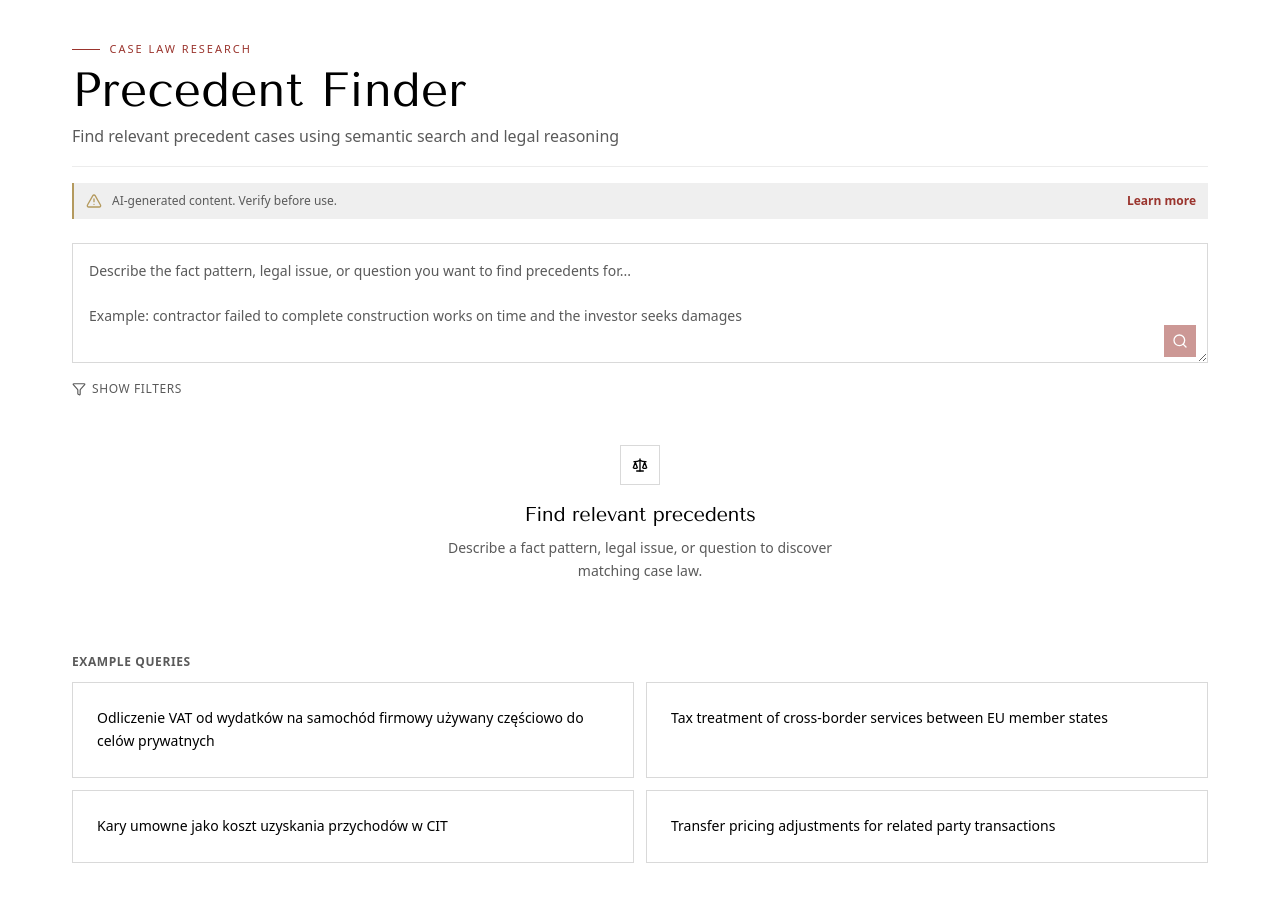
Test: precedents page — cohort block › renders no block when the cohort is empty
The width and height of the screenshot is (1280, 900).
Replace the text in the text box with "a juvenile drug appeal with three co-defendants". click: [640, 303]
box: [72,243,1208,363]
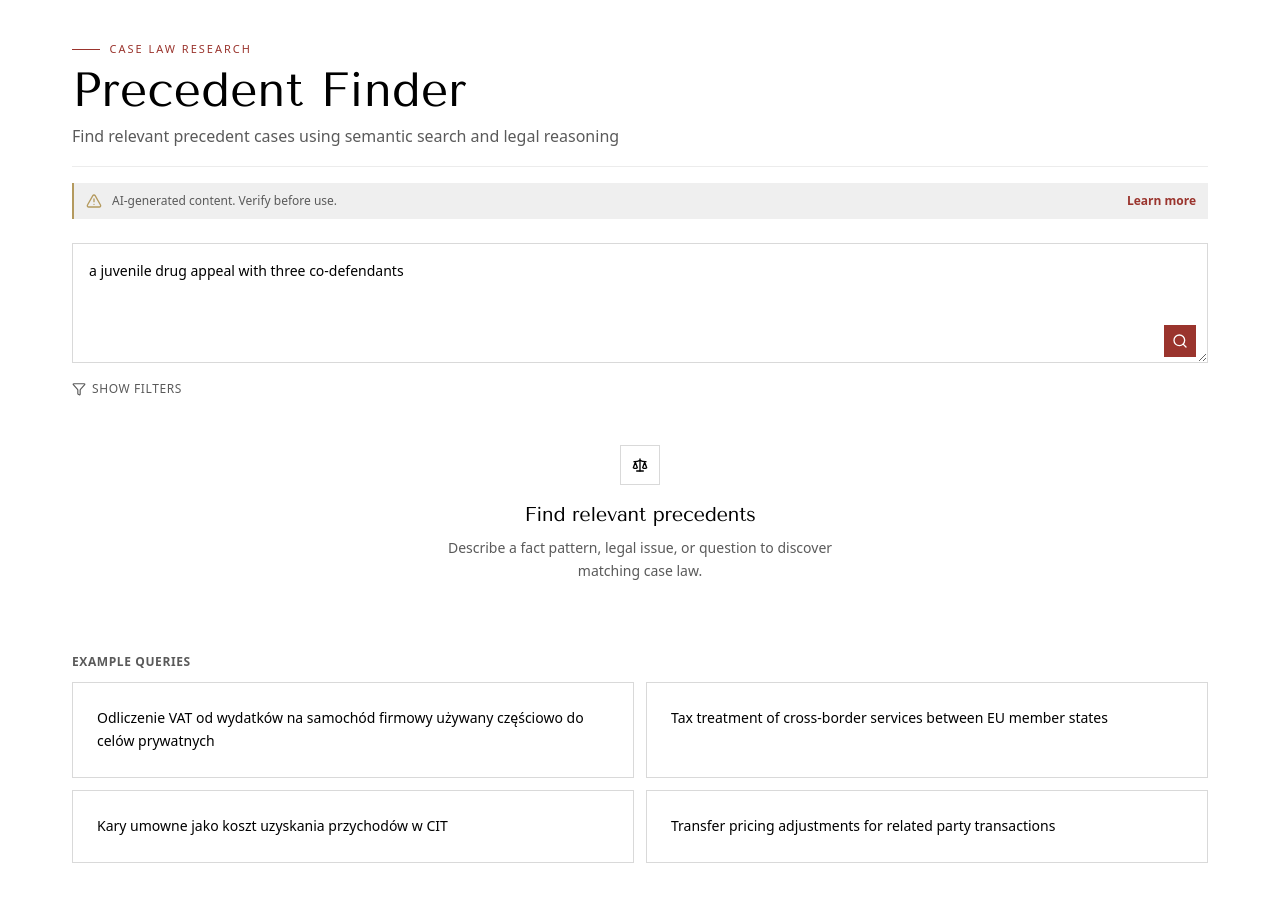
Click the button named "search for precedents". click: [1180, 341]
box: [1164,325,1196,357]
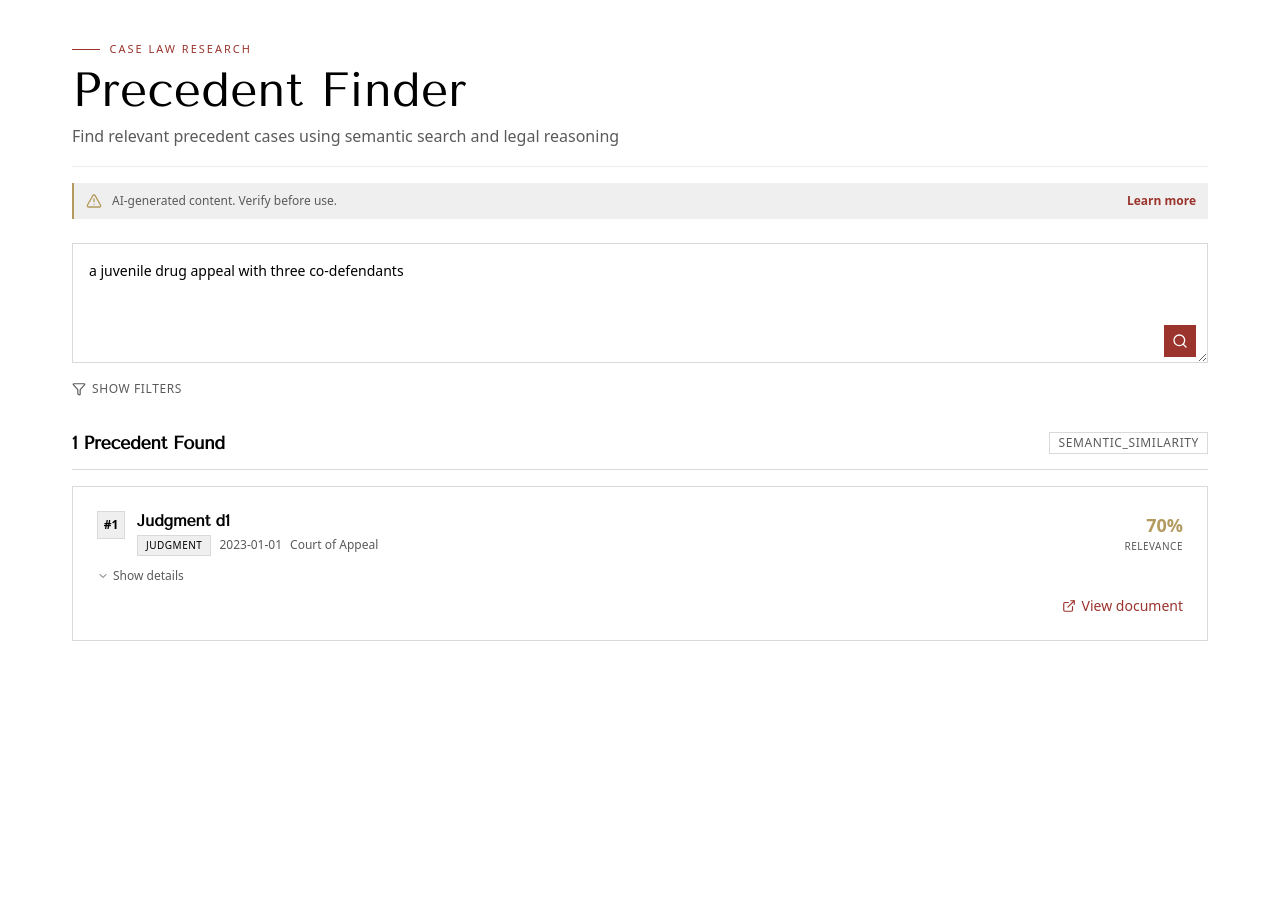
Check: the heading "Judgment d1" is shown, box [137,511,230,530]
